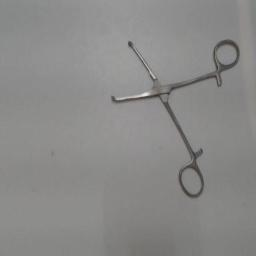Allis Tissue Forceps: (106, 32, 242, 204)
